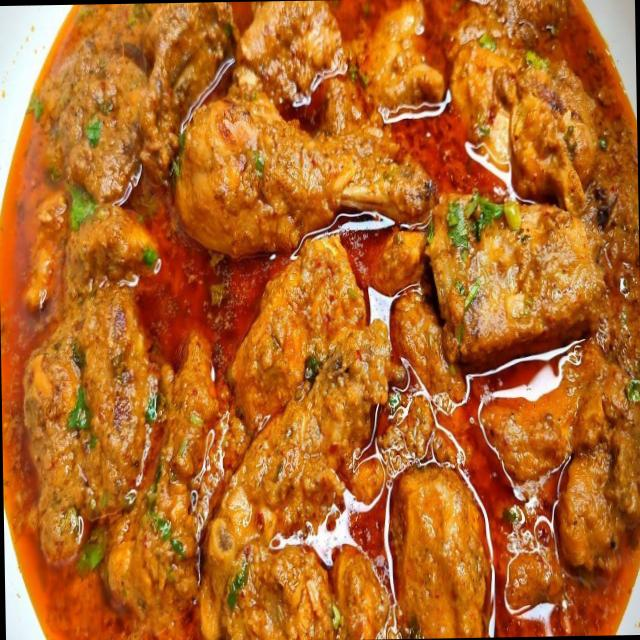chicken: (8, 15, 632, 624)
